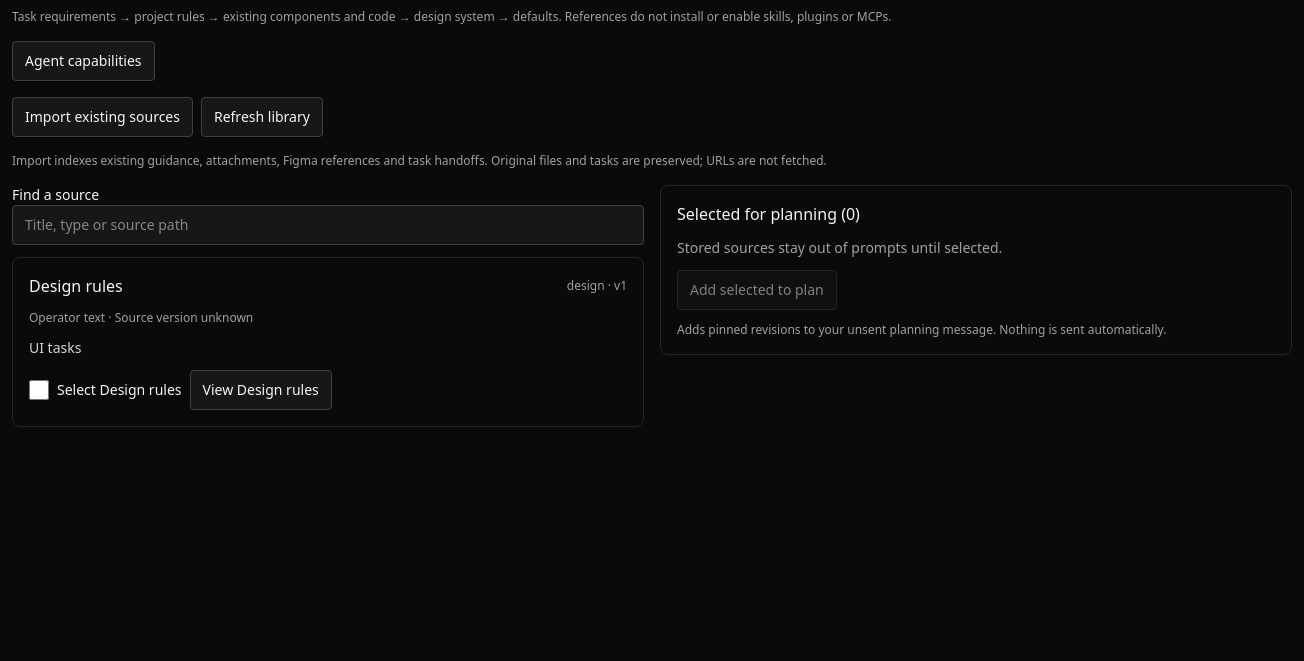
Scenario: confirms archive changes and surfaces conflict/refusal errors without losing selection
Click the checkbox labelled "Select Design rules" at (39, 390), box [29, 380, 49, 400]
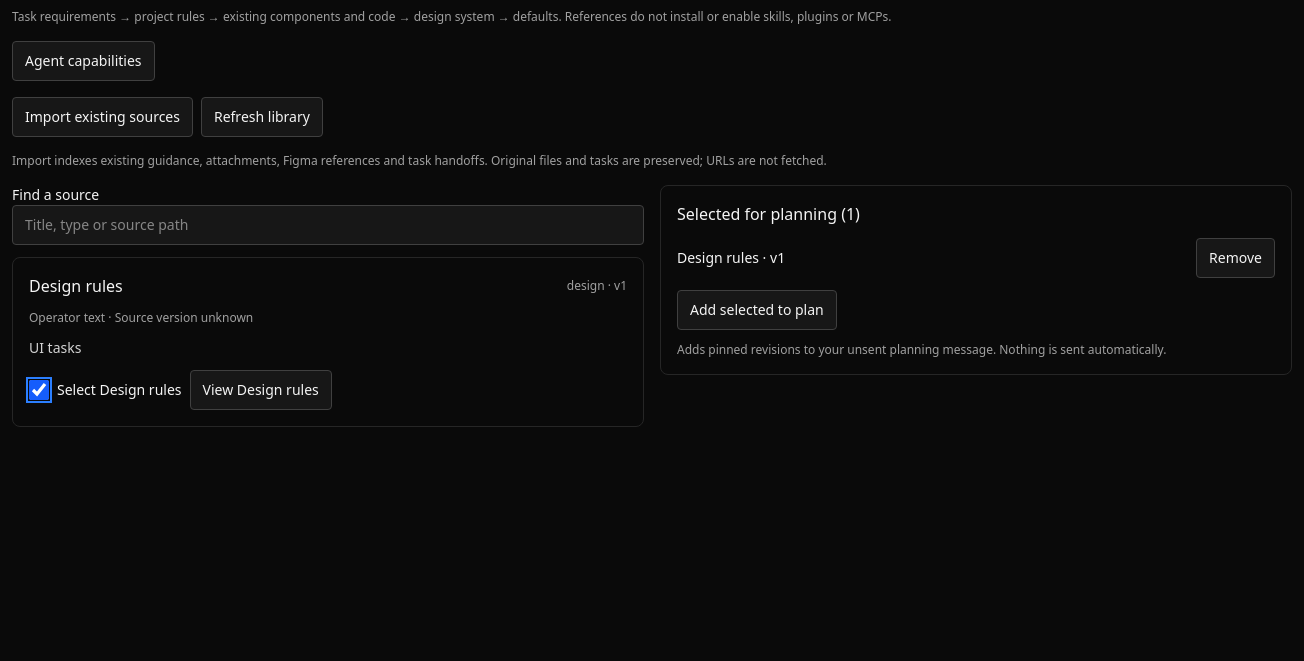
Click the button "Add selected to plan" at (757, 310), box [677, 290, 837, 330]
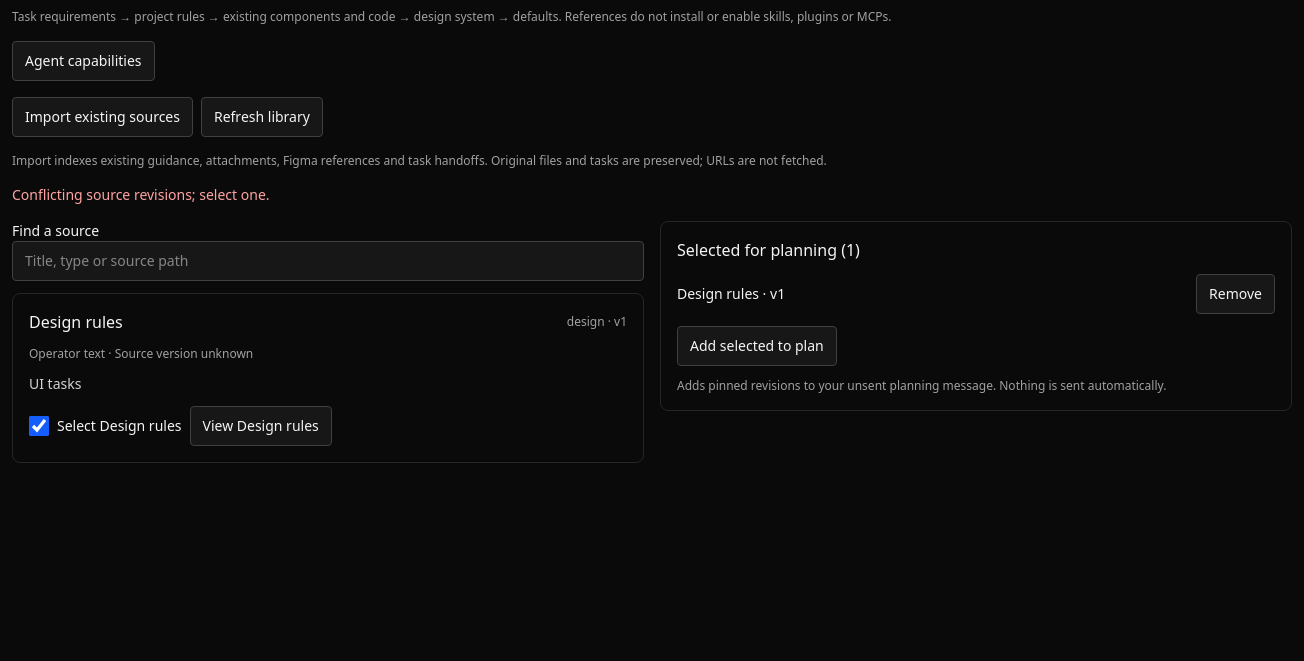
expect the checkbox labelled "Select Design rules" is checked: met, box [29, 416, 49, 436]
expect the message shows "Conflicting source revisions": met, box [12, 185, 270, 204]
Click the button "View Design rules" at (261, 426), box [190, 406, 332, 446]
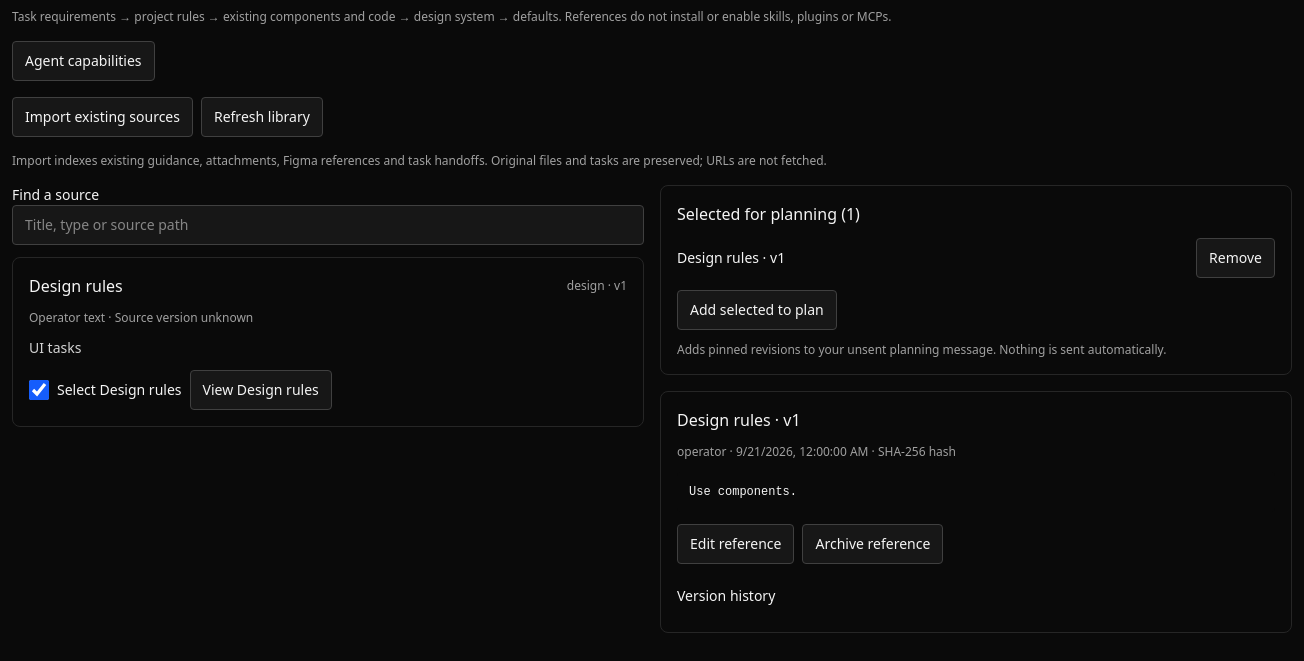
Click the button "Archive reference" at (873, 544), box [802, 524, 943, 564]
(page scrolled)
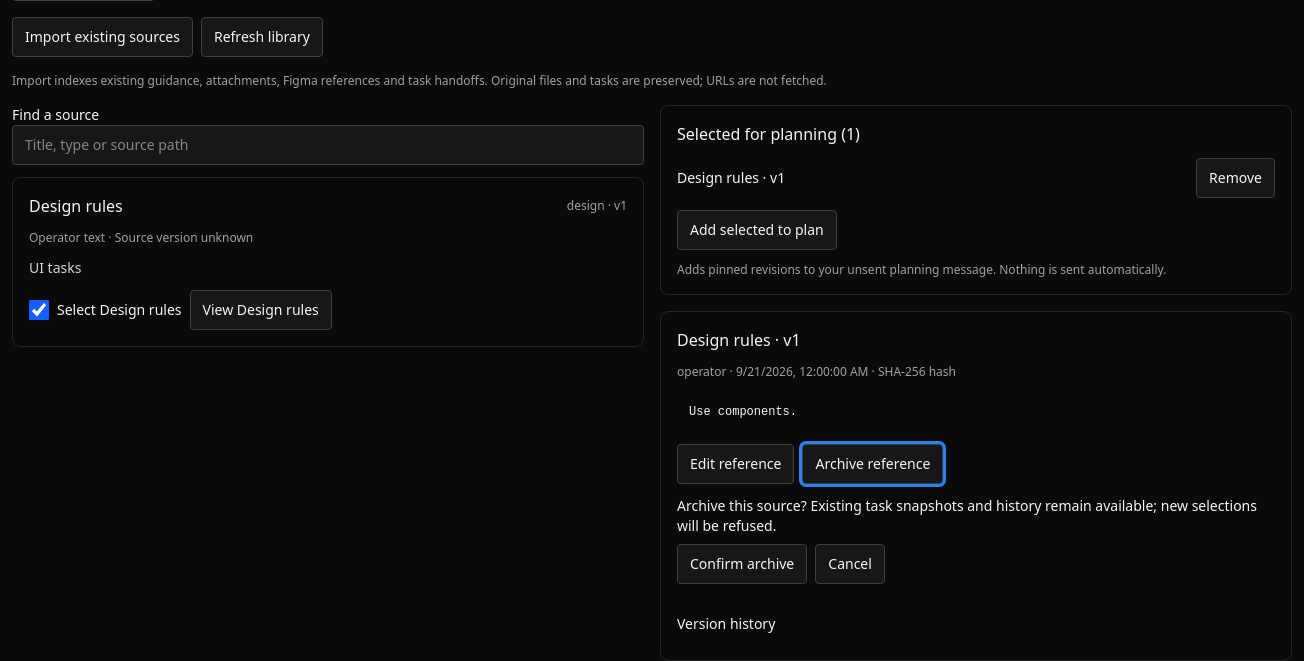
Click the button "Confirm archive" at (742, 564), box [677, 544, 807, 584]
(page scrolled)
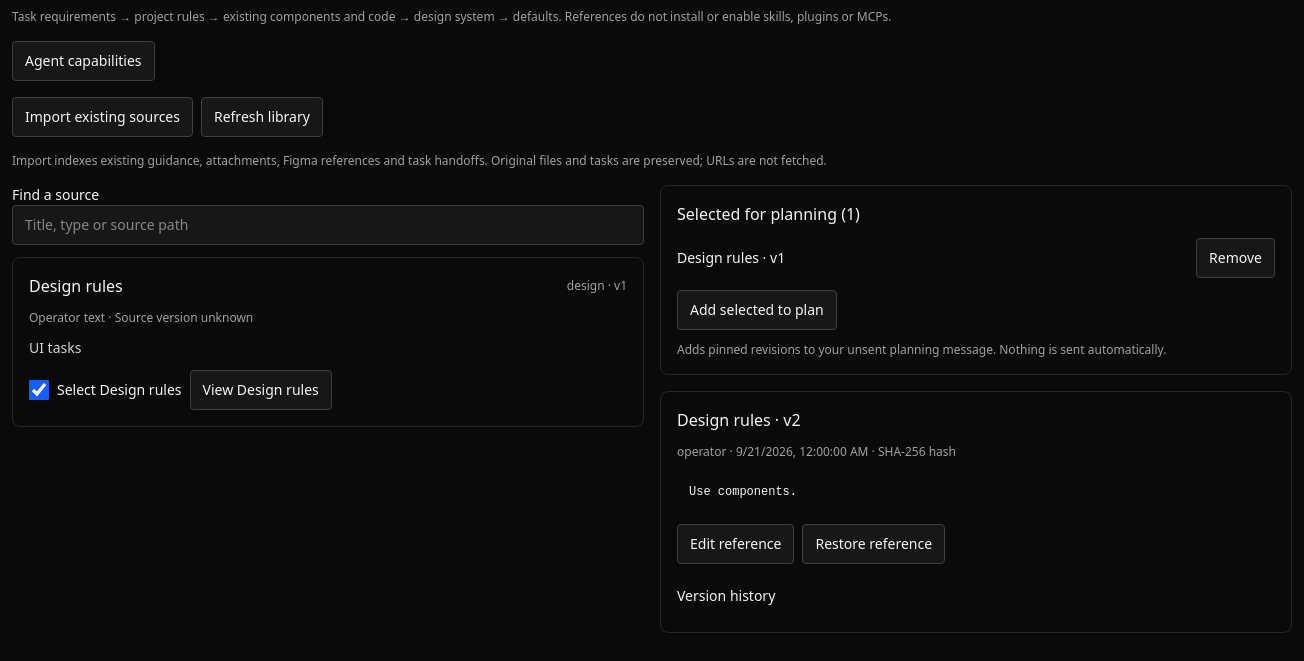
expect the button "Restore reference" is shown: met, box [802, 524, 945, 564]
